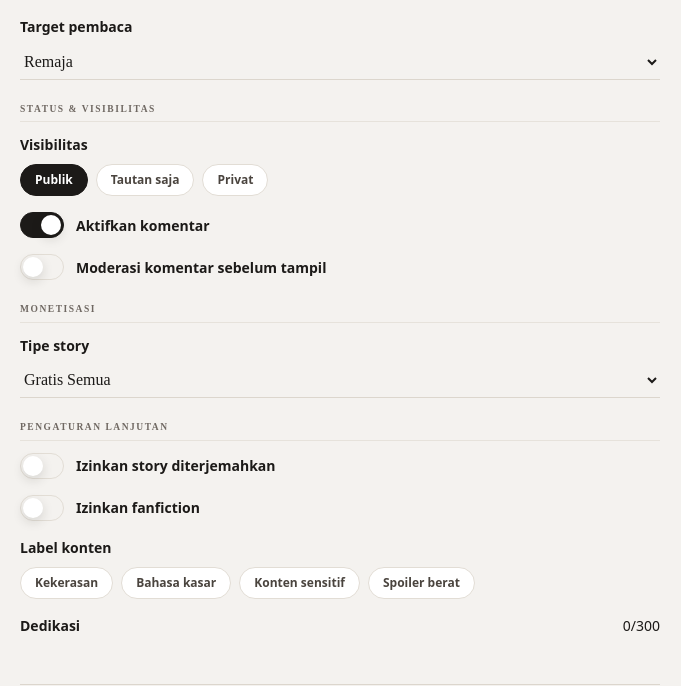
Test case: monetisasi terbalik antara dua mode · FR-STUDIO-15 · arch §1.5 › harga akses penuh hanya muncul pada Premium
(page scrolled)
expect the field labelled "Harga akses penuh" is not shown: met
Select "Premium" in the dropdown labelled "Tipe story" at x=340, y=380, box x1=20 y1=362 x2=660 y2=398
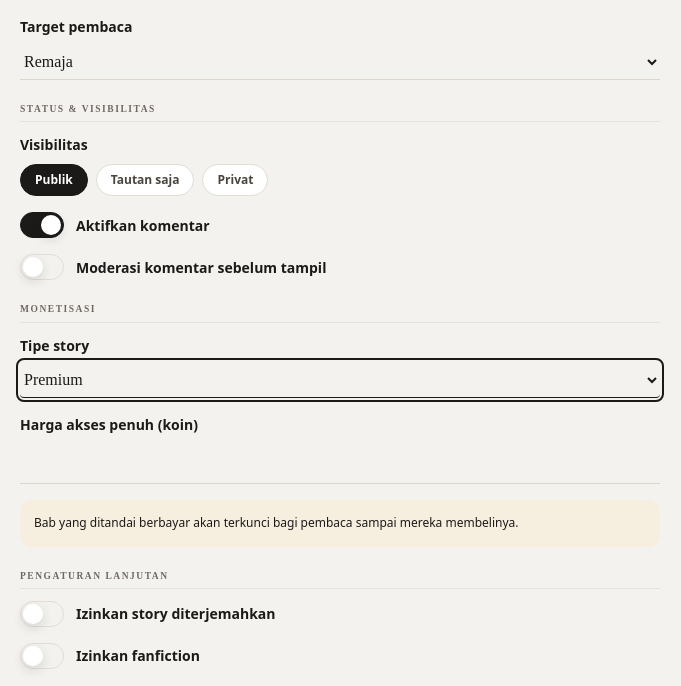
expect the number field labelled "Harga akses penuh (koin)" is shown: met, box x1=20 y1=442 x2=660 y2=484
